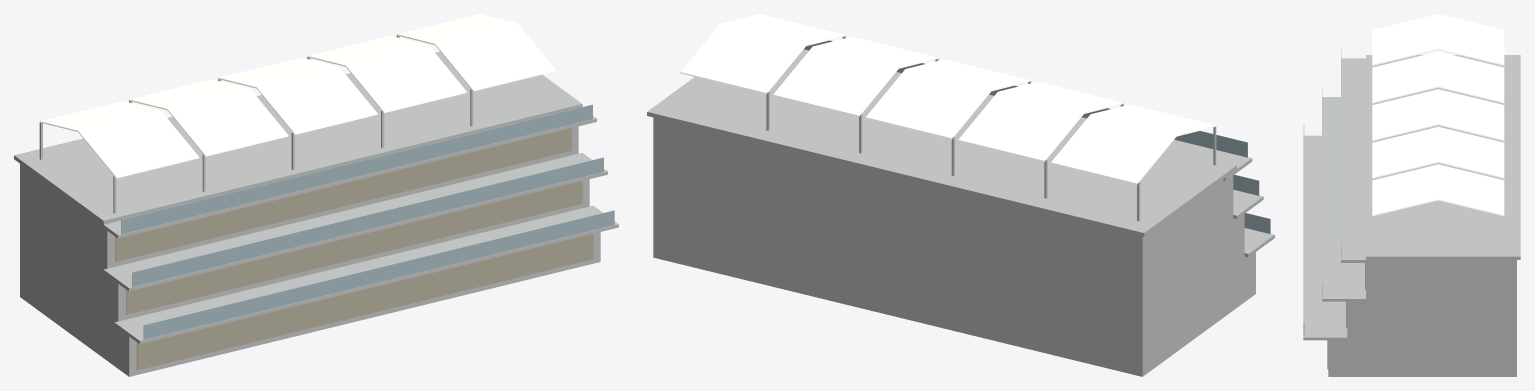
Rendered from sil_brdc.glb.
The picture shows the model from 3 angles, left to right: view 1: azimuth 30°, elevation 25°; view 2: azimuth 150°, elevation 25°; view 3: azimuth 270°, elevation 25°; orthographic projection. The views are drawn at different scales.
Parts seen in each view (by area): view 1: silverstone-brdc-clubhouse; view 2: silverstone-brdc-clubhouse; view 3: silverstone-brdc-clubhouse.
Boxes of the visible parts, box(x1,y1,x2,y2) form: silverstone-brdc-clubhouse: box(14, 14, 618, 376); silverstone-brdc-clubhouse: box(647, 14, 1274, 376); silverstone-brdc-clubhouse: box(1303, 14, 1520, 376).
Bounding box in the file's own units: 38 × 14.9 × 17.3.
